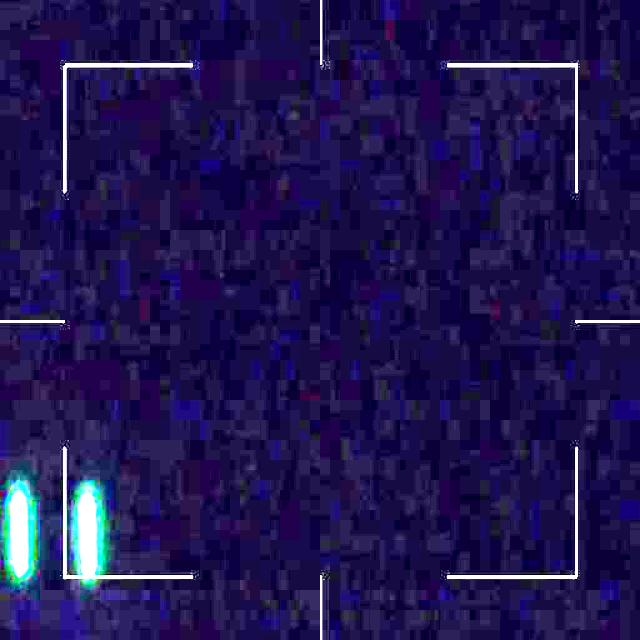bird: (10, 484, 98, 588)
